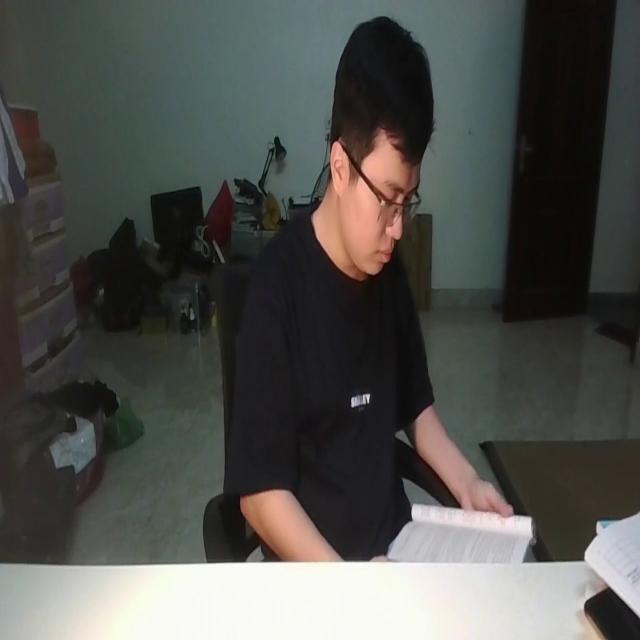book: (379, 496, 535, 564)
student: (226, 18, 518, 563)
